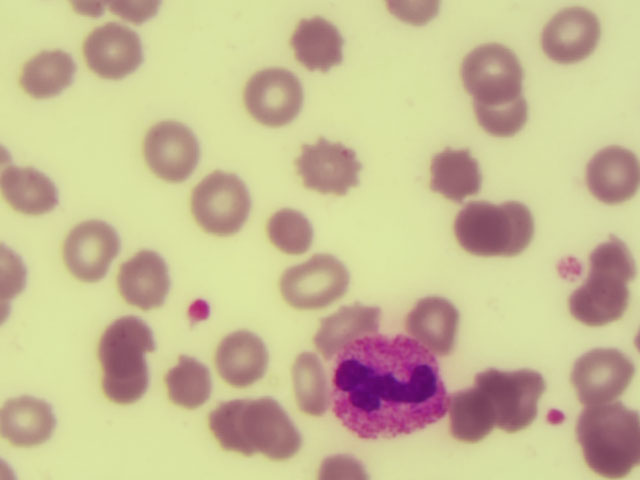Platelets: (558, 258, 584, 281), (190, 297, 210, 324), (552, 410, 565, 425)
RBC: (188, 168, 253, 235), (59, 217, 121, 284), (81, 19, 148, 81), (244, 69, 309, 129), (543, 5, 602, 71), (282, 253, 349, 309), (461, 45, 526, 100), (142, 120, 199, 182), (116, 245, 171, 309), (249, 398, 305, 458), (295, 12, 346, 76), (589, 143, 640, 207), (300, 141, 359, 196), (455, 200, 508, 261), (572, 350, 632, 402), (474, 88, 531, 142), (209, 395, 259, 454), (315, 309, 382, 352), (429, 148, 481, 202), (219, 330, 268, 386), (449, 387, 491, 452), (19, 48, 75, 96), (497, 196, 540, 258), (6, 395, 55, 448), (3, 170, 58, 216), (408, 295, 457, 346), (101, 315, 157, 358), (170, 356, 213, 411), (295, 347, 329, 416), (504, 370, 545, 427), (592, 238, 640, 286), (584, 409, 640, 449), (569, 291, 634, 325), (270, 209, 318, 254), (379, 1, 452, 30), (480, 365, 517, 422), (99, 369, 153, 404), (577, 449, 640, 479), (589, 274, 635, 315), (1, 244, 27, 299), (99, 349, 149, 377), (320, 455, 366, 480), (115, 2, 170, 21), (68, 4, 110, 17), (1, 293, 13, 328), (1, 147, 12, 165)
WBC: (332, 336, 452, 445)
